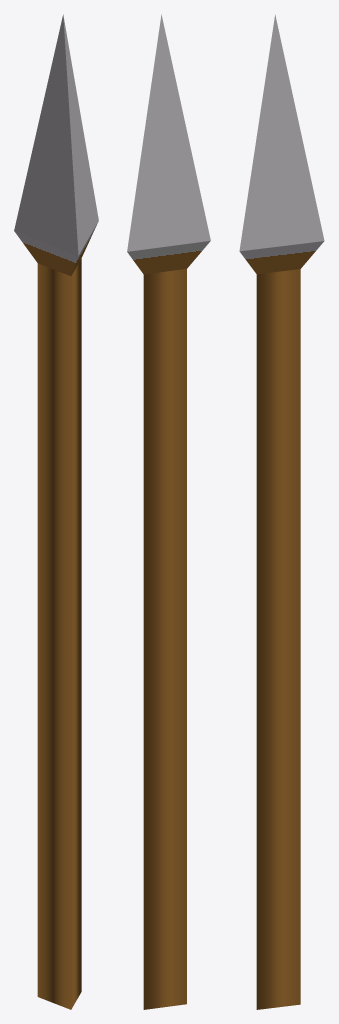
Rendered from wp_ewok_crossbow_bolt_l1.fbx.
3 views of the same model, side by side, from view 1: azimuth 90°, elevation 25°; view 2: azimuth 150°, elevation 25°; view 3: azimuth 270°, elevation 25° (orthographic).
Parts seen in each view (by area): view 1: mesh_node; view 2: mesh_node; view 3: mesh_node.
Part boxes in pixels (<box>): mesh_node: <box>14,14,98,1009</box>; mesh_node: <box>127,14,210,1009</box>; mesh_node: <box>239,14,324,1009</box>.
Bounding box in the file's own units: 0.0454 × 0.5889 × 0.046.
